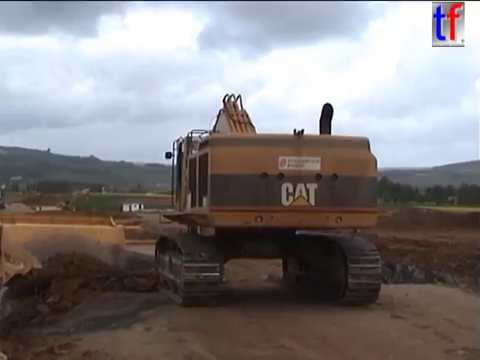excavator: (150, 90, 385, 308), (54, 187, 97, 215)
truck: (1, 207, 190, 334), (103, 223, 189, 279)
